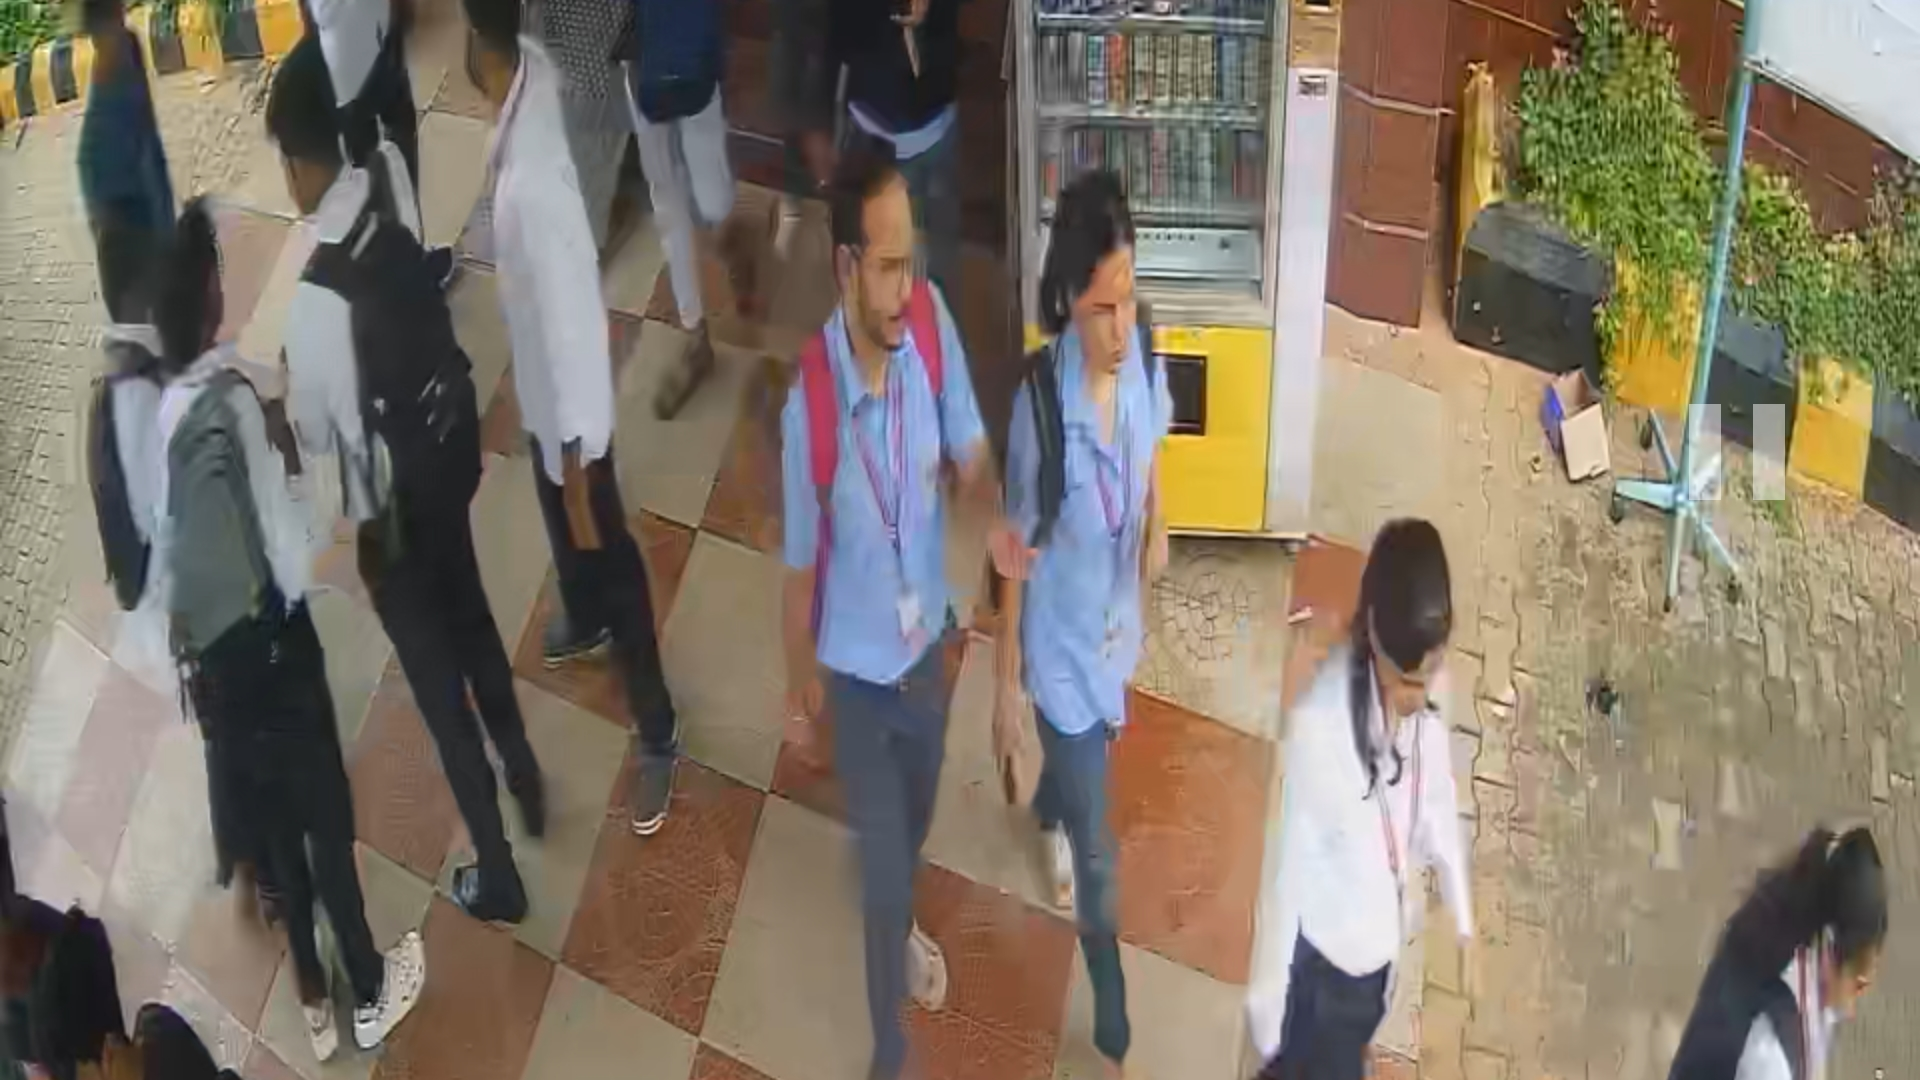not intruder: (750, 117, 990, 1077), (1007, 165, 1183, 1072), (1270, 506, 1487, 1080)
